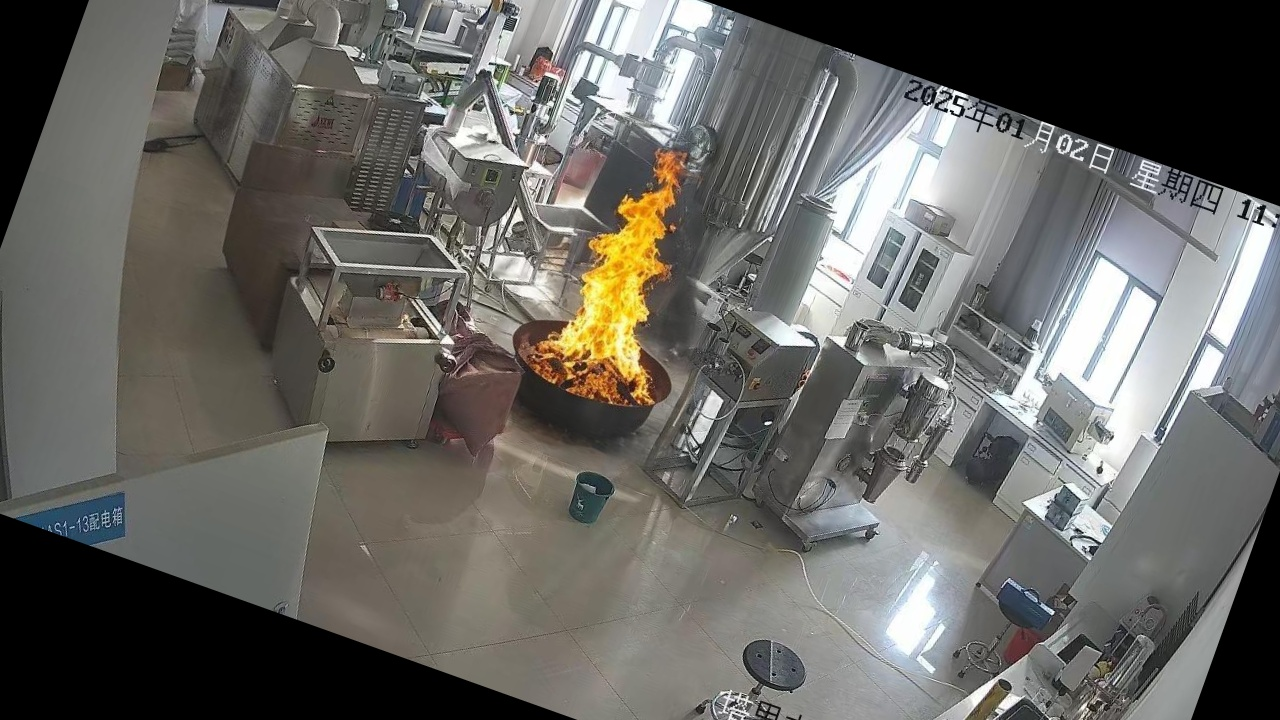fire: (517, 135, 752, 439)
